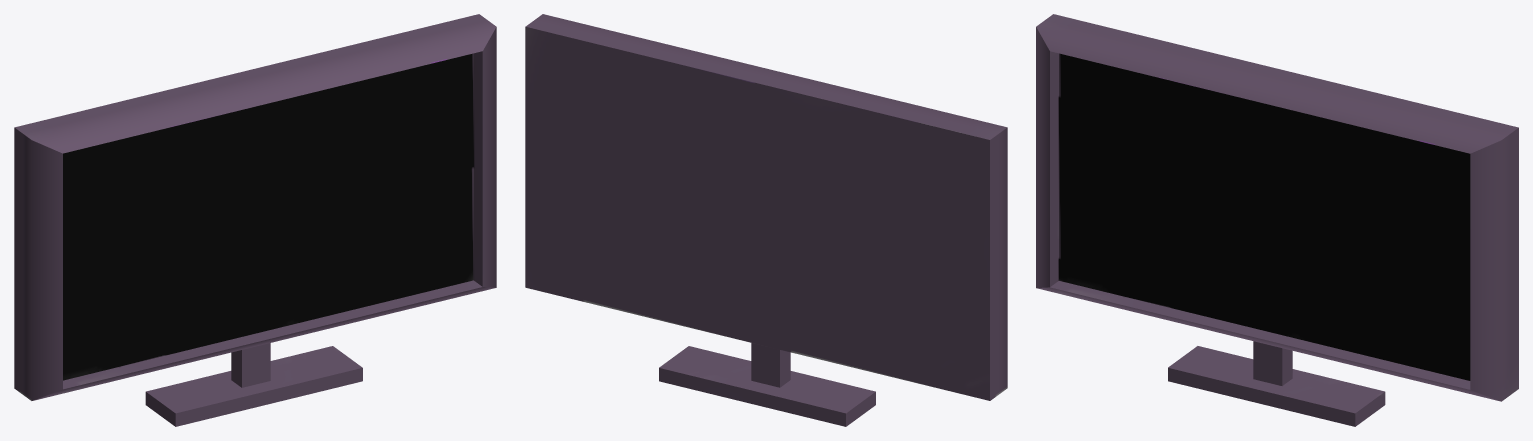
File: monitor exp resend.fbx
The picture shows the model from 3 angles, left to right: view 1: azimuth 30°, elevation 25°; view 2: azimuth 150°, elevation 25°; view 3: azimuth 330°, elevation 25°; orthographic projection.
Visible parts, largest first — view 1: Box008; view 2: Box008; view 3: Box008.
Part boxes in pixels (x1,y1,x2,y2): Box008: [14, 14, 496, 426]; Box008: [525, 14, 1007, 426]; Box008: [1036, 14, 1518, 426].
Size of the model in its own units: 13.76 by 8.93 by 1.66.
